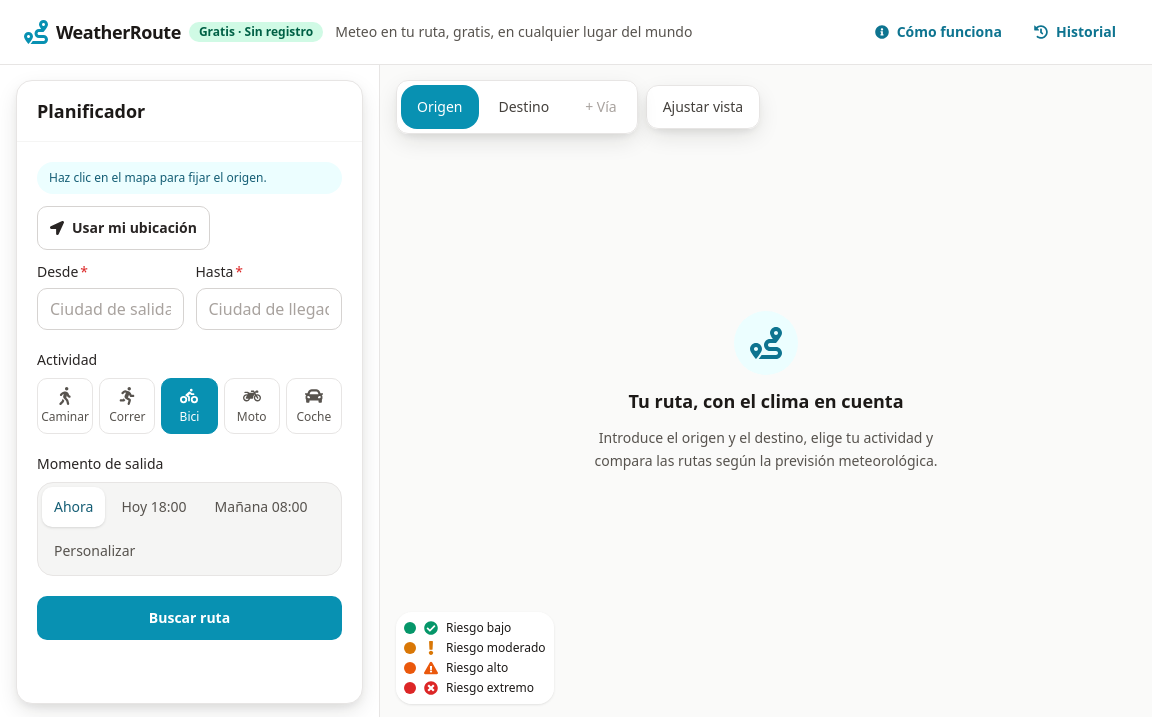
Test: App › renders the recommended banner, Spanish cards and the conditions index after a successful analysis
The width and height of the screenshot is (1152, 717).
In the dropdown labelled "Desde*": (110, 309) [37,288,184,330], type "Ciudad Real"
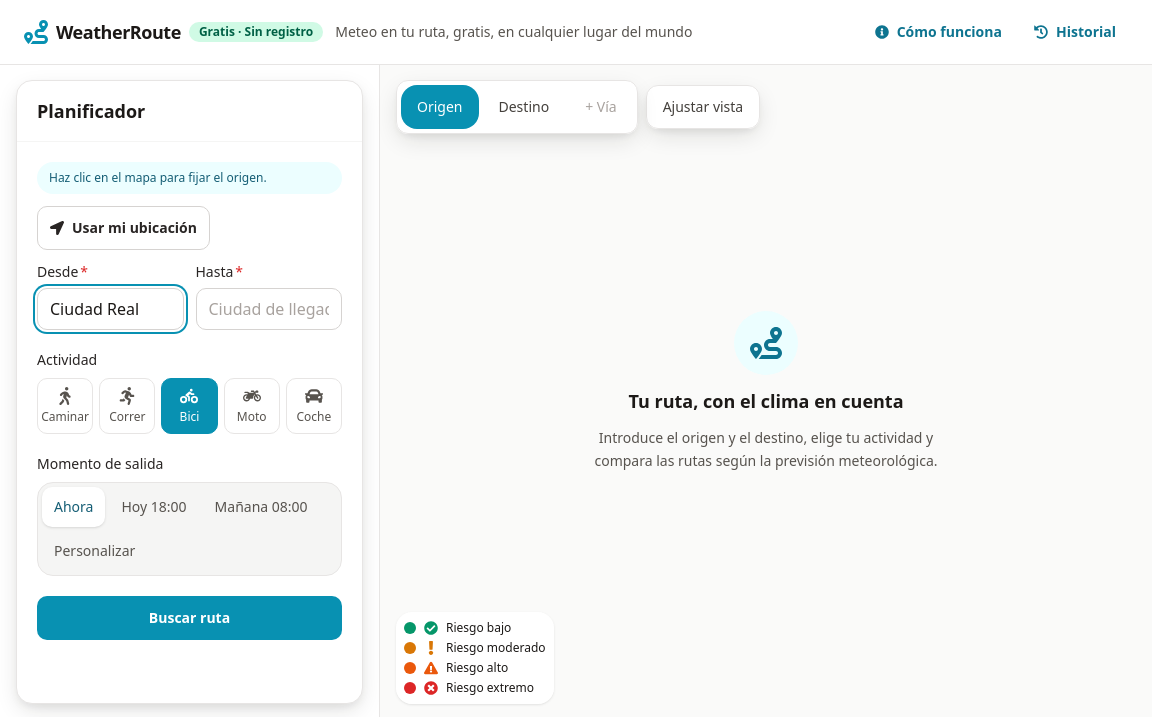
In the dropdown labelled "Hasta*": (269, 309) [196,288,342,330], type "Almagro"
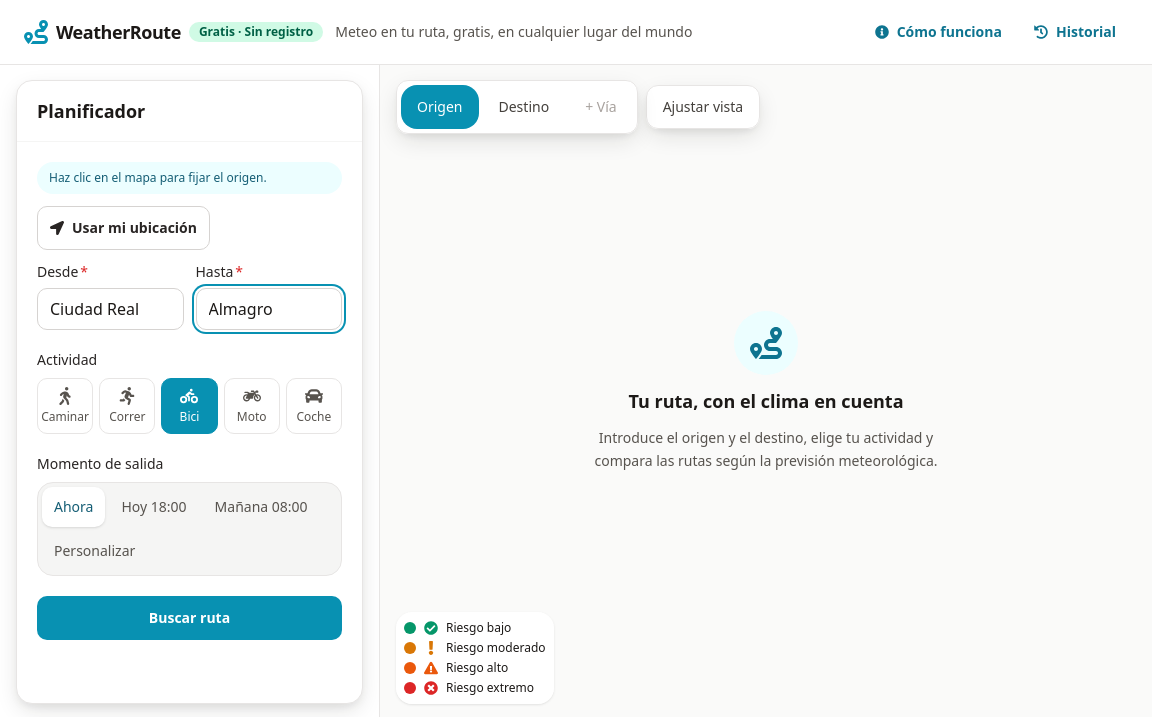
Click the button "Buscar ruta": (190, 618) [37,596,342,640]
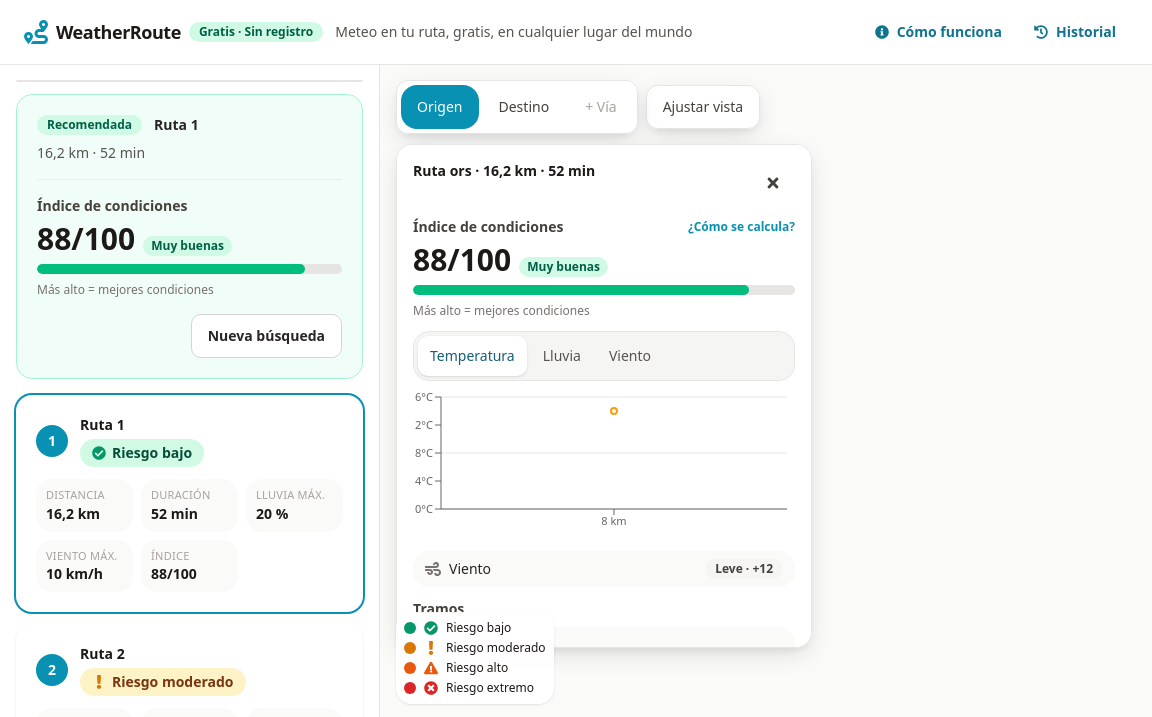
Expected: the text "Recomendada" is shown, [37,115,142,135]
Expected: the 2nd heading "Ruta 1" is shown, [80,415,125,434]
Expected: the heading "Ruta 2" is shown, [80,644,125,663]
